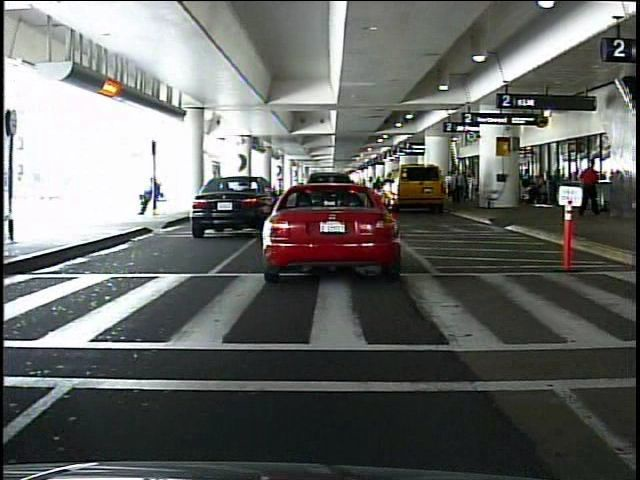person: (629, 113, 637, 306), (580, 158, 599, 217)
